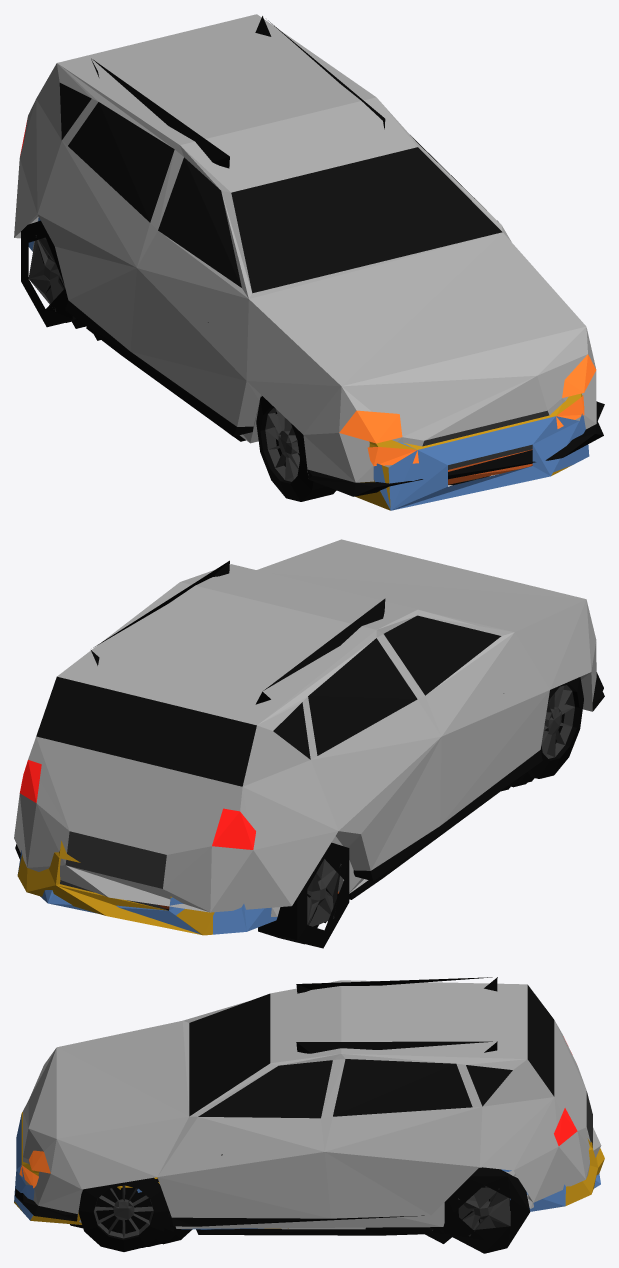
Rendered from cars-lod.glb.
The picture shows the model from 3 angles, top to bottom: view 1: azimuth 30°, elevation 25°; view 2: azimuth 150°, elevation 25°; view 3: azimuth 270°, elevation 25°; orthographic projection. The views are drawn at different scales.
Visible parts, largest first — view 1: Body (×3), WheelFR, WheelsBack; view 2: Body (×4), WheelsBack, WheelFR; view 3: Body (×5), WheelsBack, WheelFL.
Part boxes in pixels (box(x1,y1,x2,y2)): Body (×3): box(14, 14, 604, 510); WheelFR: box(256, 396, 336, 501); WheelsBack: box(21, 220, 76, 327); Body (×4): box(14, 539, 604, 935); WheelsBack: box(15, 842, 349, 948); WheelFR: box(527, 677, 583, 778); Body (×5): box(14, 977, 604, 1235); WheelsBack: box(444, 1167, 529, 1253); WheelFL: box(78, 1177, 169, 1251).
Bounding box in the file's own units: 1.95 × 1.51 × 4.21.
